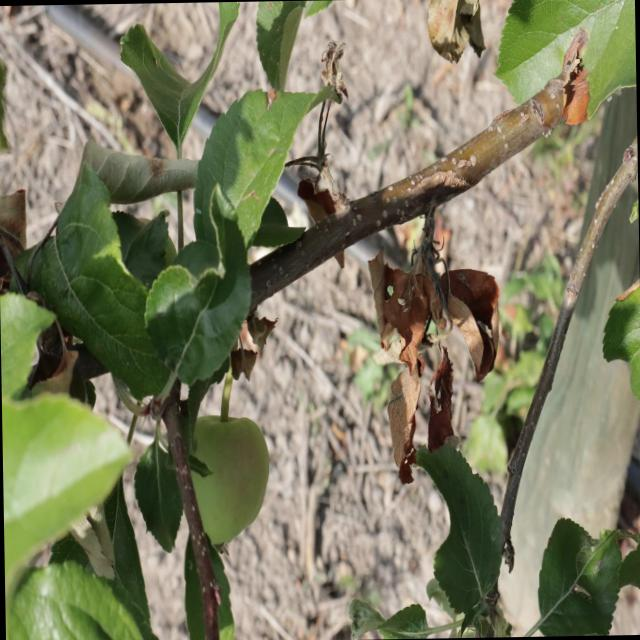-FireBlight-: (354, 245, 507, 482)
